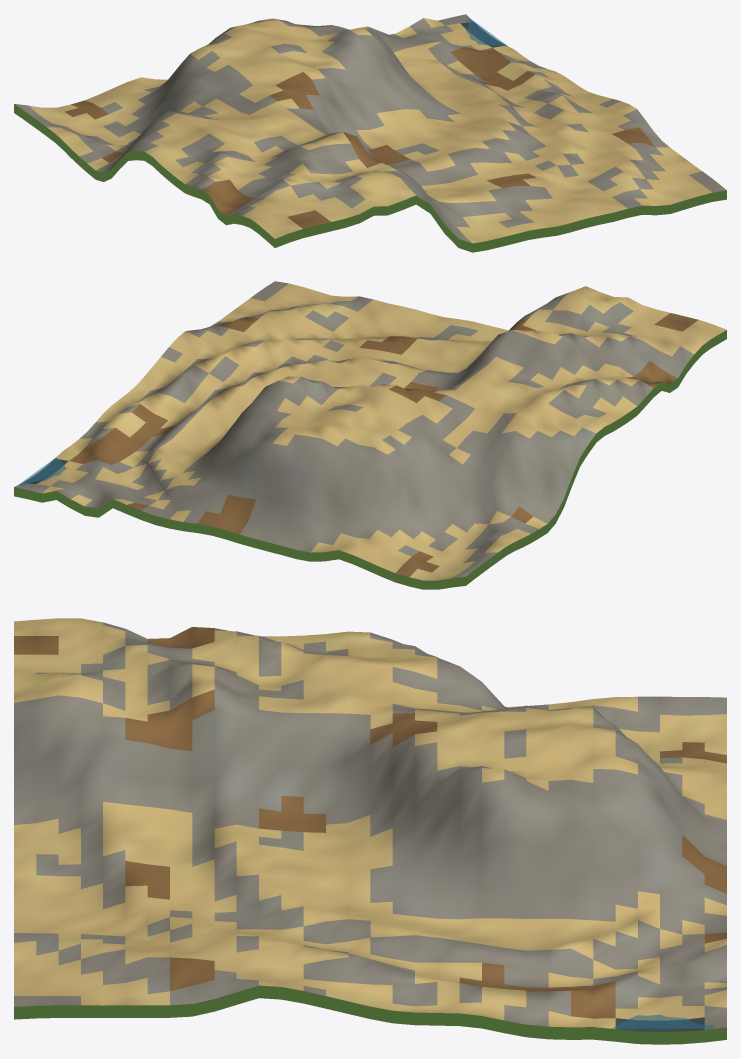
Rendered from chunk_6_6_lod1.glb.
3 renders of one model, top to bottom at view 1: azimuth 30°, elevation 25°; view 2: azimuth 150°, elevation 25°; view 3: azimuth 270°, elevation 25°, orthographic. The views are drawn at different scales.
Parts seen in each view (by area): view 1: Surface_Sand, Surface_Gravel, Skirt, Surface_Dirt, Water, Surface_Water; view 2: Surface_Gravel, Surface_Sand, Surface_Dirt, Skirt, Water; view 3: Surface_Gravel, Surface_Sand, Surface_Dirt, Skirt, Surface_Water, Water.
Part boxes in pixels (<box>): Surface_Sand: <box>29,18,712,243</box>; Surface_Gravel: <box>15,14,726,242</box>; Skirt: <box>14,104,726,252</box>; Surface_Dirt: <box>65,47,655,228</box>; Water: <box>465,19,507,46</box>; Surface_Water: <box>460,22,505,47</box>; Surface_Gravel: <box>14,281,693,578</box>; Surface_Sand: <box>36,283,726,580</box>; Surface_Dirt: <box>69,313,698,577</box>; Skirt: <box>14,330,726,589</box>; Water: <box>19,457,66,485</box>; Surface_Gravel: <box>14,622,726,1029</box>; Surface_Sand: <box>14,618,726,1028</box>; Surface_Dirt: <box>14,627,726,1018</box>; Skirt: <box>14,985,726,1044</box>; Surface_Water: <box>615,1017,704,1031</box>; Water: <box>612,1014,714,1028</box>.
Size of the model in its own units: 256 by 58.67 by 256.
